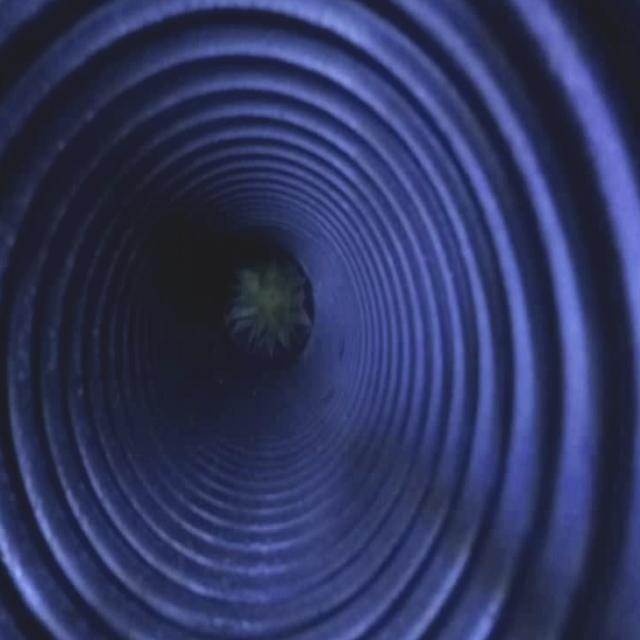leaf: (241, 270, 309, 348)
